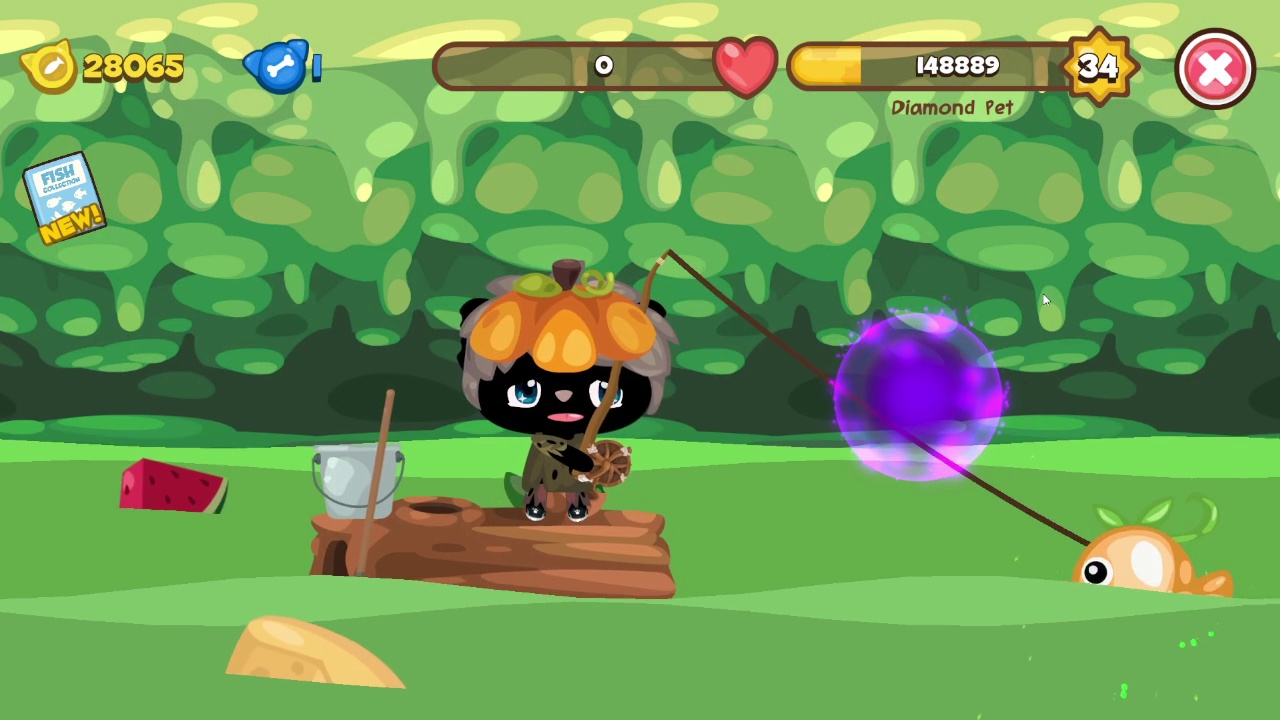point: (831, 312, 1008, 480)
